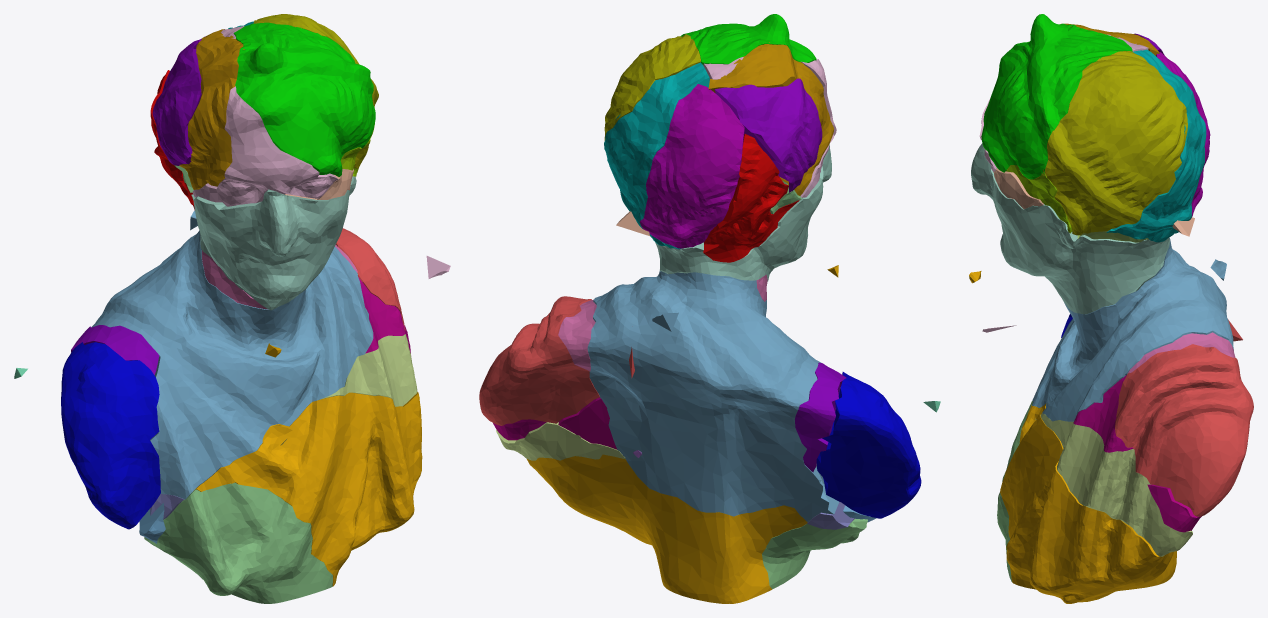
The model's file is fractured_51_37pcs.glb.
3 views of the same model, side by side, from view 1: azimuth 30°, elevation 25°; view 2: azimuth 150°, elevation 25°; view 3: azimuth 270°, elevation 25° (orthographic).
Parts seen in each view (by area): view 1: piece_2.obj, piece_0.obj, piece_8.obj, piece_3.obj, piece_10.obj, piece_4.obj, piece_6.obj, piece_17.obj, piece_16.obj, piece_5.obj, piece_1.obj, piece_18.obj (+6 smaller); view 2: piece_2.obj, piece_0.obj, piece_12.obj, piece_10.obj, piece_1.obj, piece_13.obj, piece_16.obj, piece_9.obj, piece_4.obj, piece_17.obj, piece_11.obj, piece_8.obj (+8 smaller); view 3: piece_11.obj, piece_1.obj, piece_0.obj, piece_2.obj, piece_8.obj, piece_4.obj, piece_5.obj, piece_13.obj, piece_19.obj, piece_15.obj, piece_14.obj, piece_21.obj (+5 smaller).
Part boxes in pixels (x1=…): piece_2.obj: x1=91, y1=230, x2=373, y2=499; piece_0.obj: x1=193, y1=392, x2=422, y2=586; piece_8.obj: x1=233, y1=22, x2=375, y2=176; piece_3.obj: x1=144, y1=482, x2=332, y2=603; piece_10.obj: x1=61, y1=342, x2=160, y2=529; piece_4.obj: x1=191, y1=176, x2=356, y2=310; piece_6.obj: x1=192, y1=26, x2=338, y2=206; piece_17.obj: x1=179, y1=29, x2=244, y2=189; piece_16.obj: x1=152, y1=36, x2=205, y2=165; piece_5.obj: x1=318, y1=334, x2=417, y2=406; piece_1.obj: x1=336, y1=228, x2=405, y2=330; piece_18.obj: x1=71, y1=325, x2=159, y2=374; piece_2.obj: x1=587, y1=271, x2=838, y2=521; piece_0.obj: x1=527, y1=454, x2=807, y2=603; piece_12.obj: x1=640, y1=84, x2=744, y2=248; piece_10.obj: x1=816, y1=372, x2=921, y2=518; piece_1.obj: x1=479, y1=296, x2=599, y2=425; piece_13.obj: x1=604, y1=62, x2=709, y2=249; piece_16.obj: x1=714, y1=78, x2=822, y2=192; piece_9.obj: x1=703, y1=134, x2=799, y2=262; piece_4.obj: x1=655, y1=144, x2=831, y2=281; piece_17.obj: x1=708, y1=42, x2=833, y2=195; piece_11.obj: x1=604, y1=34, x2=700, y2=140; piece_8.obj: x1=680, y1=14, x2=816, y2=64; piece_11.obj: x1=1044, y1=51, x2=1187, y2=235; piece_1.obj: x1=1115, y1=344, x2=1253, y2=516; piece_0.obj: x1=1000, y1=403, x2=1176, y2=603; piece_2.obj: x1=1032, y1=238, x2=1233, y2=421; piece_8.obj: x1=981, y1=14, x2=1132, y2=179; piece_4.obj: x1=971, y1=143, x2=1169, y2=314; piece_5.obj: x1=1040, y1=413, x2=1192, y2=556; piece_13.obj: x1=1106, y1=49, x2=1206, y2=242; piece_19.obj: x1=1073, y1=375, x2=1133, y2=452; piece_15.obj: x1=1147, y1=484, x2=1201, y2=532; piece_14.obj: x1=1006, y1=165, x2=1072, y2=233; piece_21.obj: x1=1126, y1=332, x2=1235, y2=375.
Bounding box in the file's own units: 0.8122 × 1 × 0.4764.
